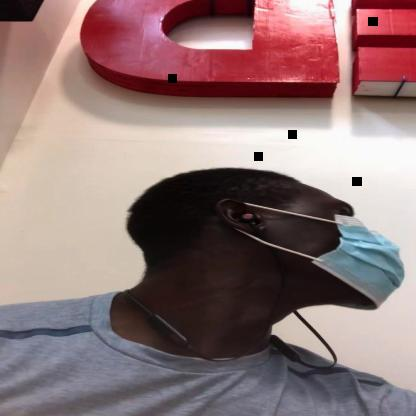mask: (240, 182, 406, 308)
